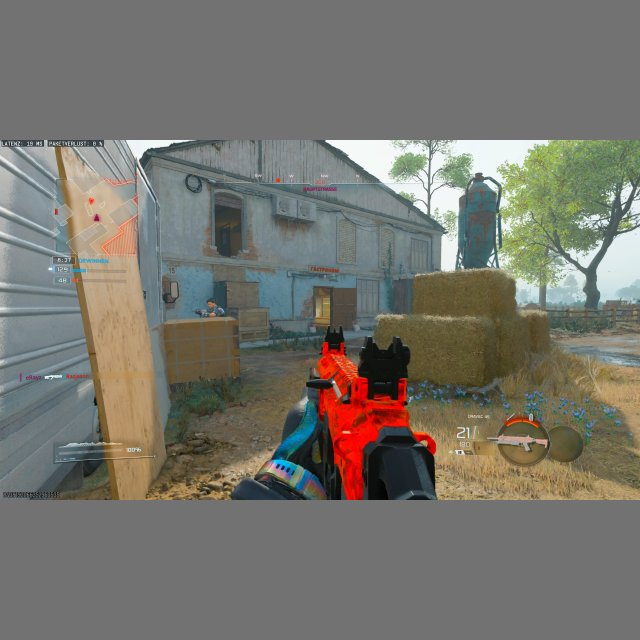head: (207, 298, 216, 307)
player: (193, 298, 225, 317)
